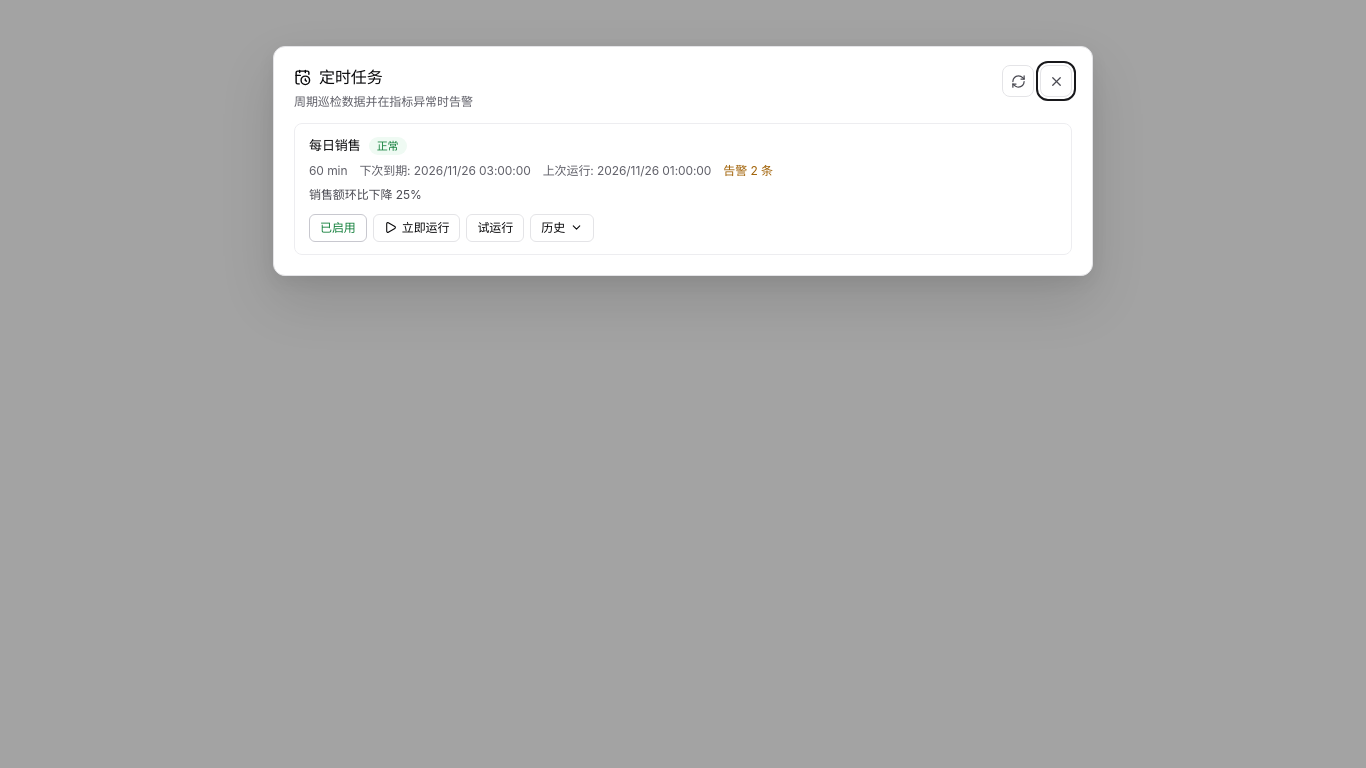
Scenario: SchedulePanel › 展开历史按需拉取并渲染记录
expect the text "每日销售" is shown: met, box x1=309 y1=136 x2=361 y2=156
Click the button "历史".
click(562, 228)  # box x1=530 y1=214 x2=594 y2=242
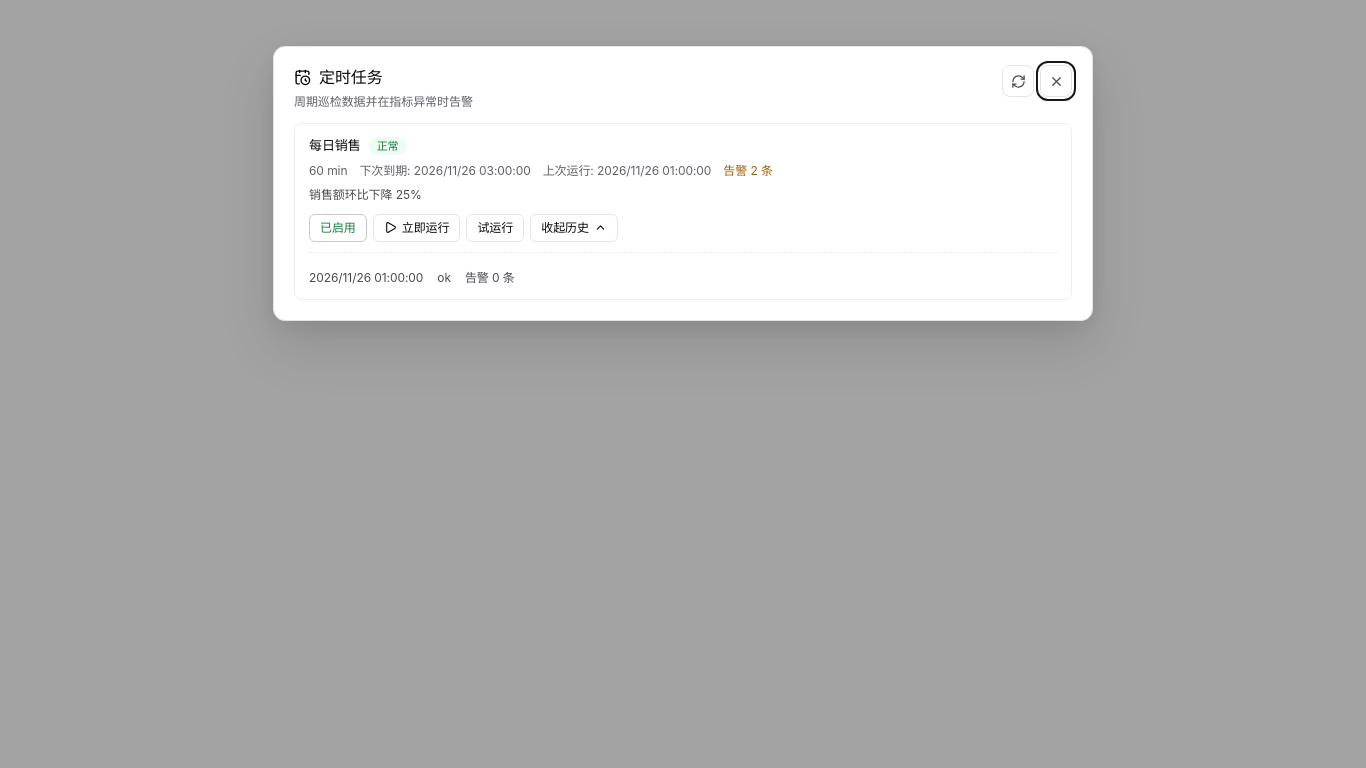
expect the text "ok" is shown: met, box x1=437 y1=269 x2=451 y2=287
expect the button "收起历史" is shown: met, box x1=530 y1=214 x2=618 y2=242
